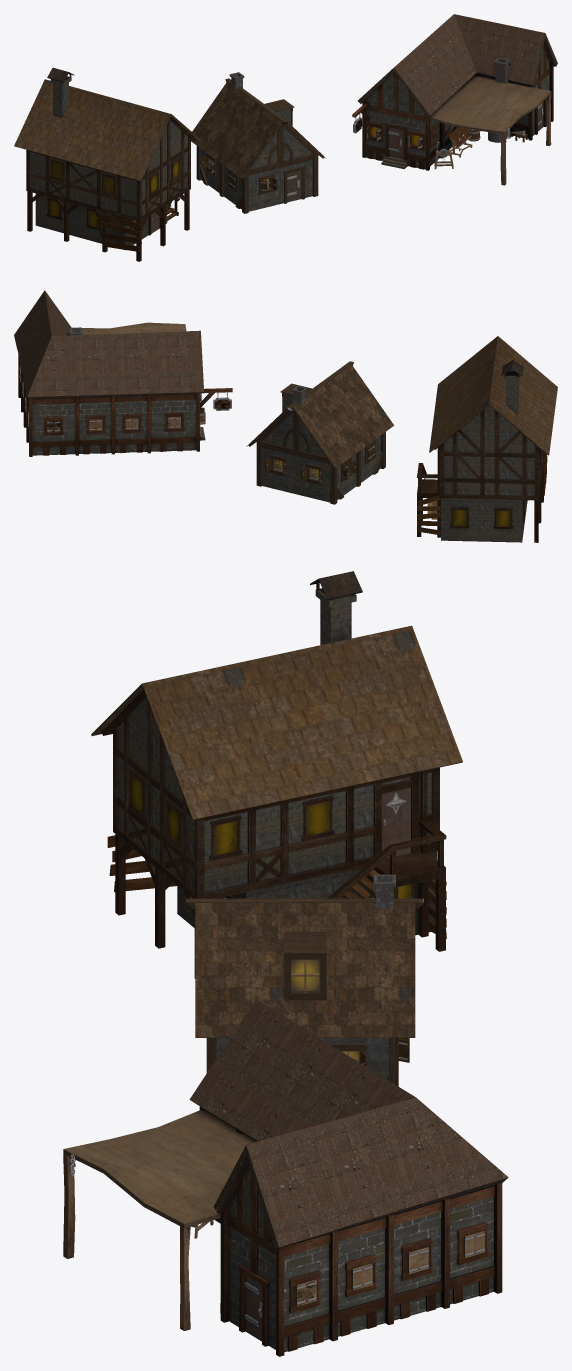
File: models.fbx
3 views of the same model, one above another, from view 1: azimuth 30°, elevation 25°; view 2: azimuth 150°, elevation 25°; view 3: azimuth 270°, elevation 25° (orthographic). The views are drawn at different scales.
Visible parts, largest first — view 1: Skeleton.001, Windows.001, House_01.001, Props_02.001; view 2: Windows.001, Skeleton.001, House_01.001; view 3: Windows.001, Skeleton.001, House_01.001.
Part boxes in pixels (bbox=[...]): Skeleton.001: bbox=[14, 67, 202, 261]; Windows.001: bbox=[352, 14, 557, 185]; House_01.001: bbox=[191, 72, 326, 213]; Props_02.001: bbox=[434, 57, 527, 169]; Windows.001: bbox=[14, 290, 232, 456]; Skeleton.001: bbox=[417, 336, 557, 542]; House_01.001: bbox=[246, 361, 393, 504]; Windows.001: bbox=[63, 999, 508, 1356]; Skeleton.001: bbox=[91, 571, 462, 978]; House_01.001: bbox=[186, 874, 423, 1086].
Size of the model in its own units: 3956 by 1138 by 1458.
